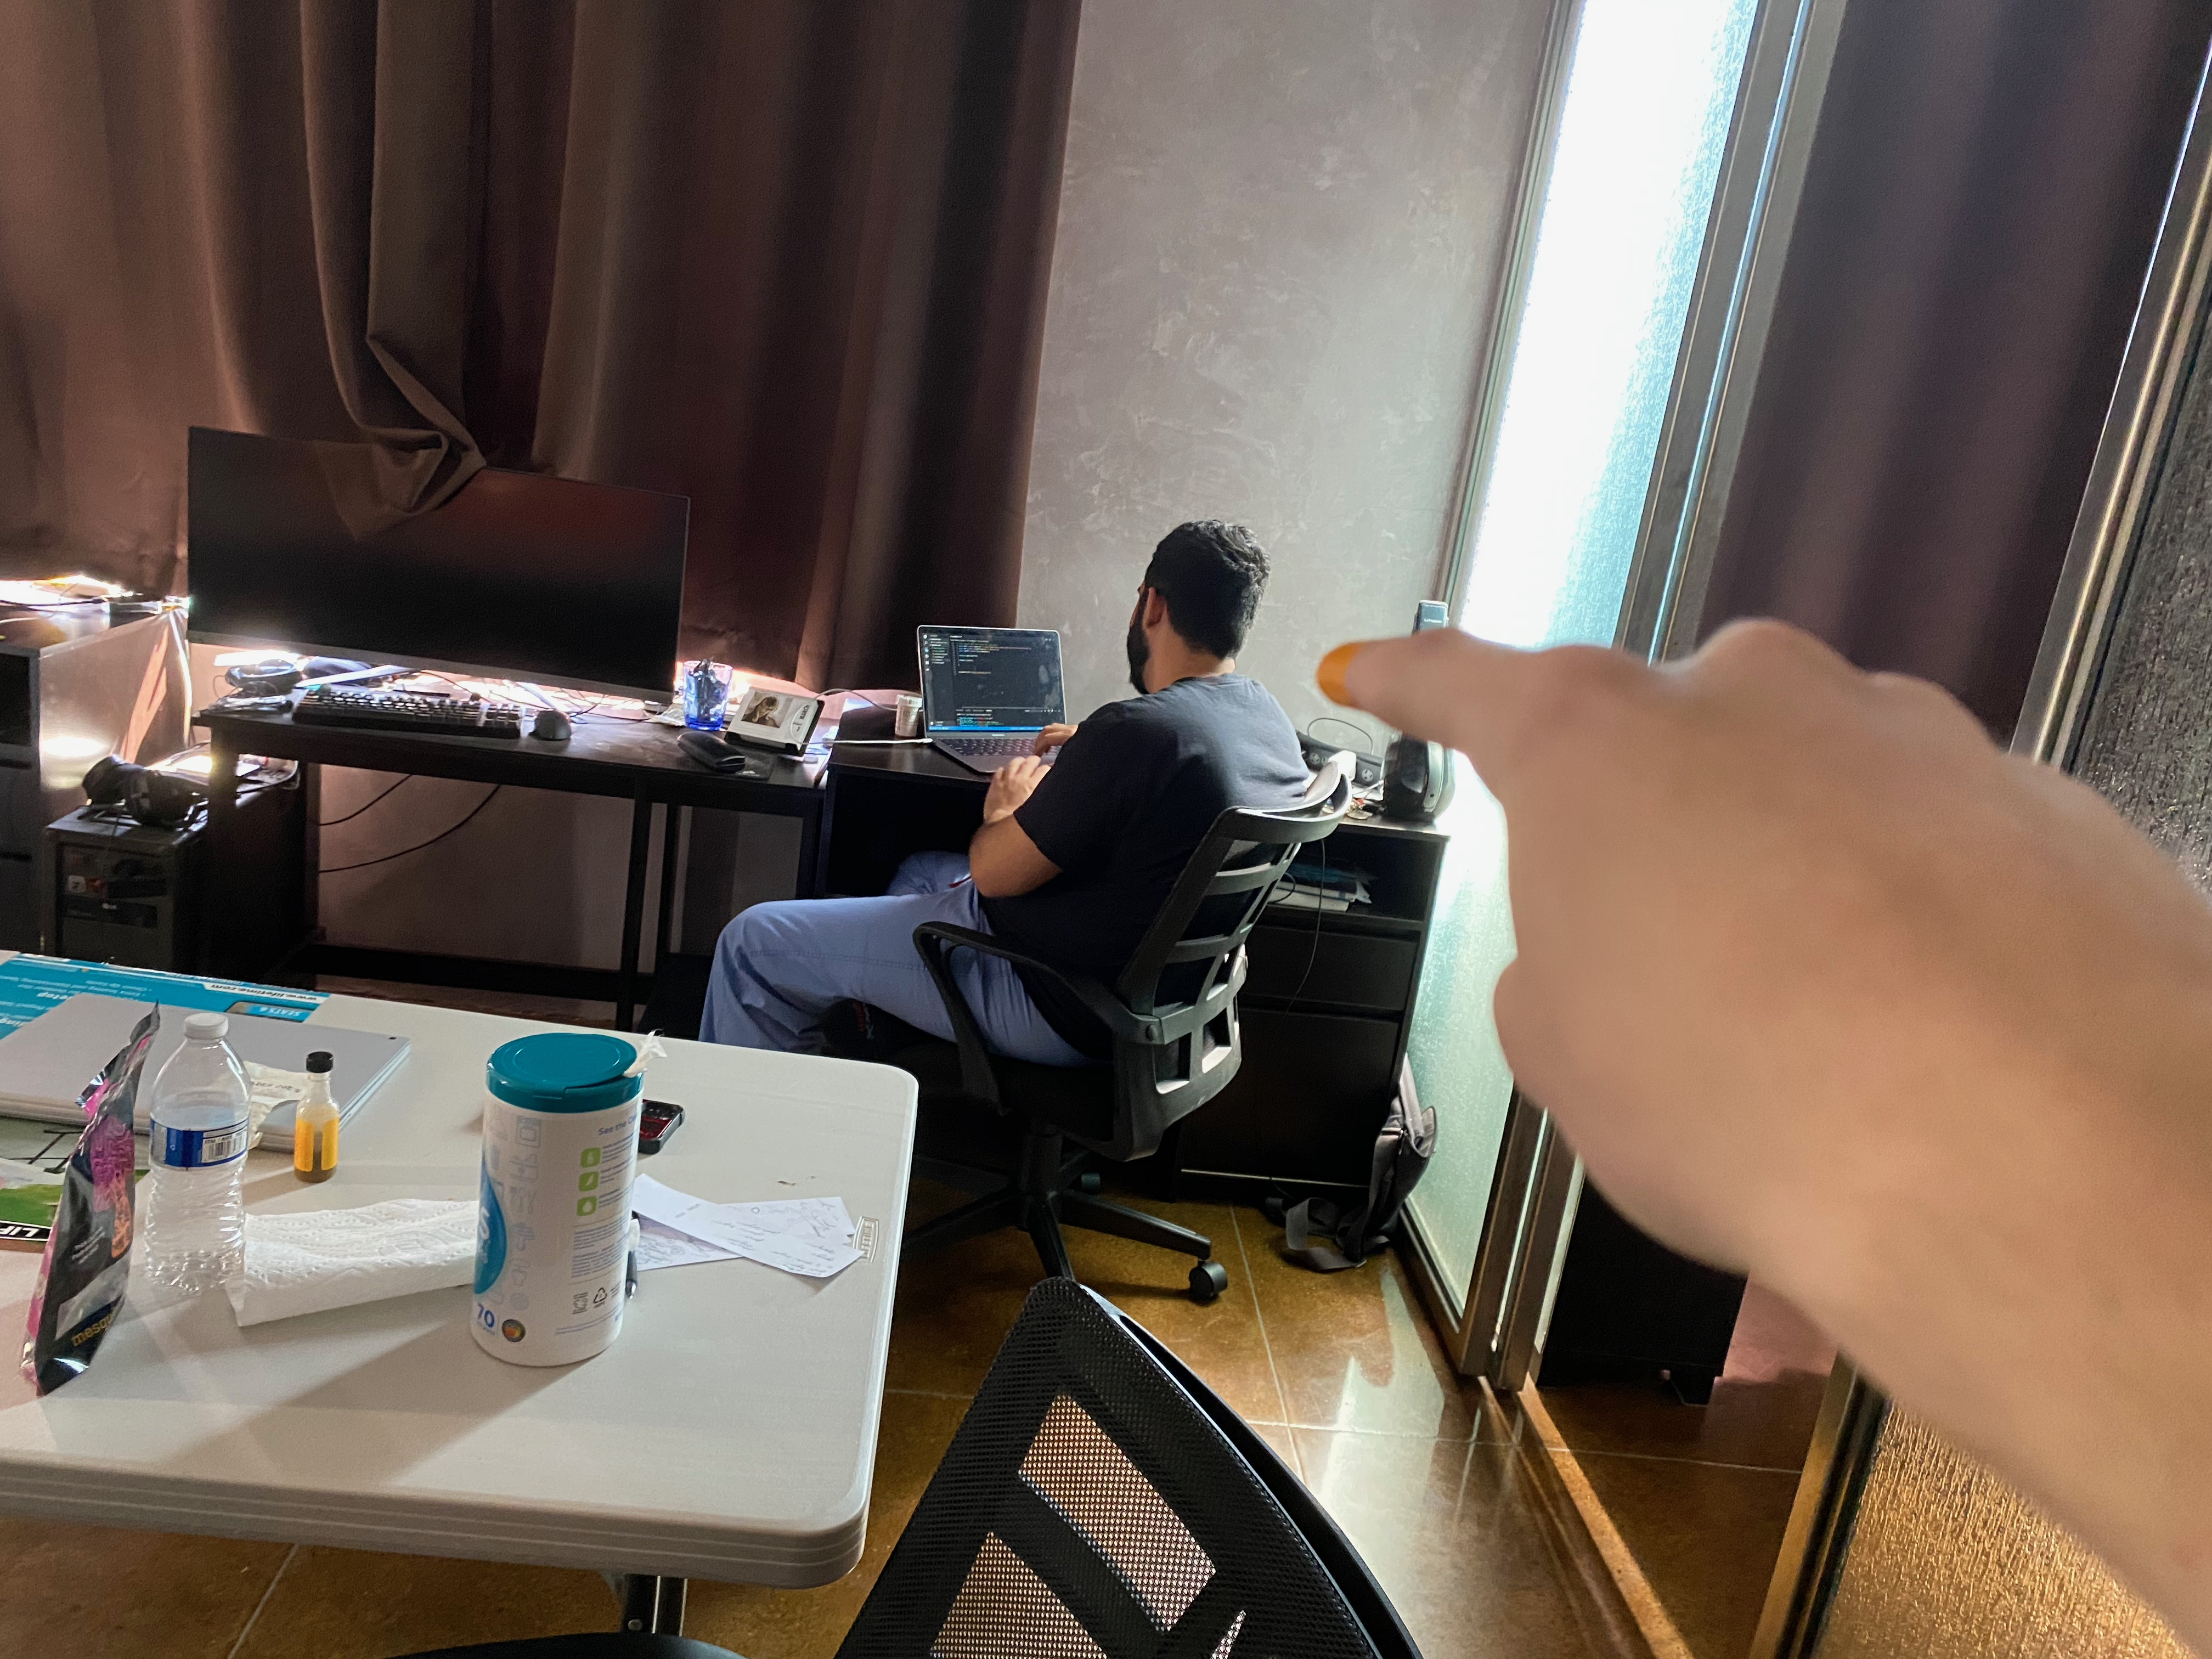fingertip: (1299, 633, 1399, 735)
